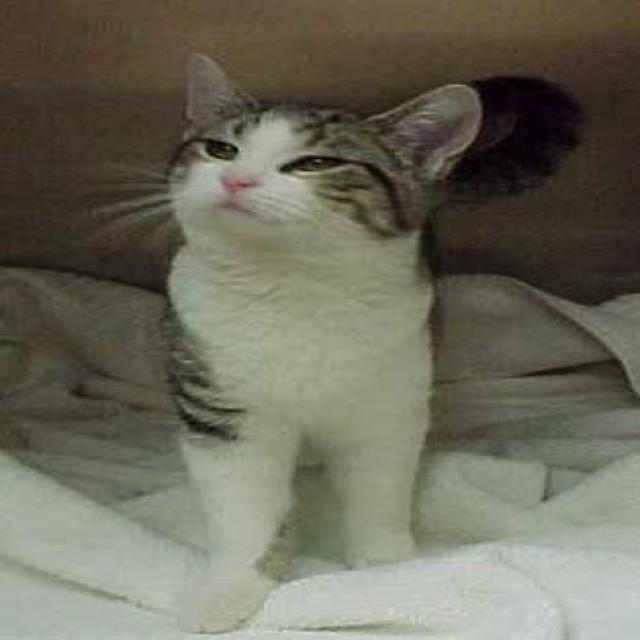cat: (95, 28, 603, 633)
